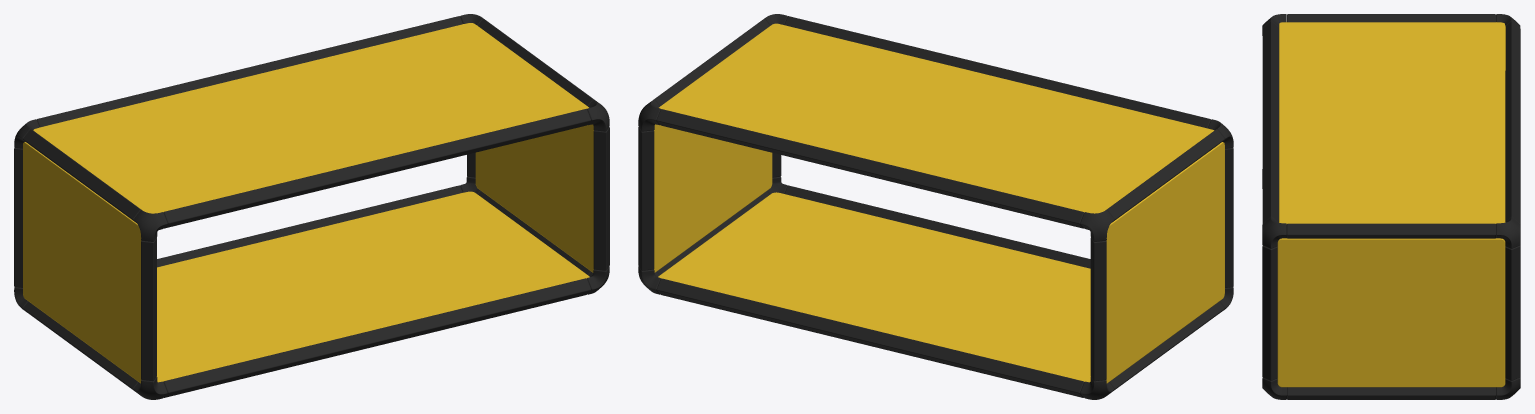
3 renders of one model, left to right at view 1: azimuth 30°, elevation 25°; view 2: azimuth 150°, elevation 25°; view 3: azimuth 270°, elevation 25°, orthographic. The views are drawn at different scales.
Parts seen in each view (by area): view 1: 729x329x229; view 2: 729x329x229; view 3: 729x329x229.
Part boxes in pixels (x1=…): 729x329x229: x1=14, y1=14, x2=609, y2=399; 729x329x229: x1=638, y1=14, x2=1233, y2=399; 729x329x229: x1=1262, y1=14, x2=1520, y2=399.
Bounding box in the file's own units: 0.8067 × 0.3066 × 0.4063.
